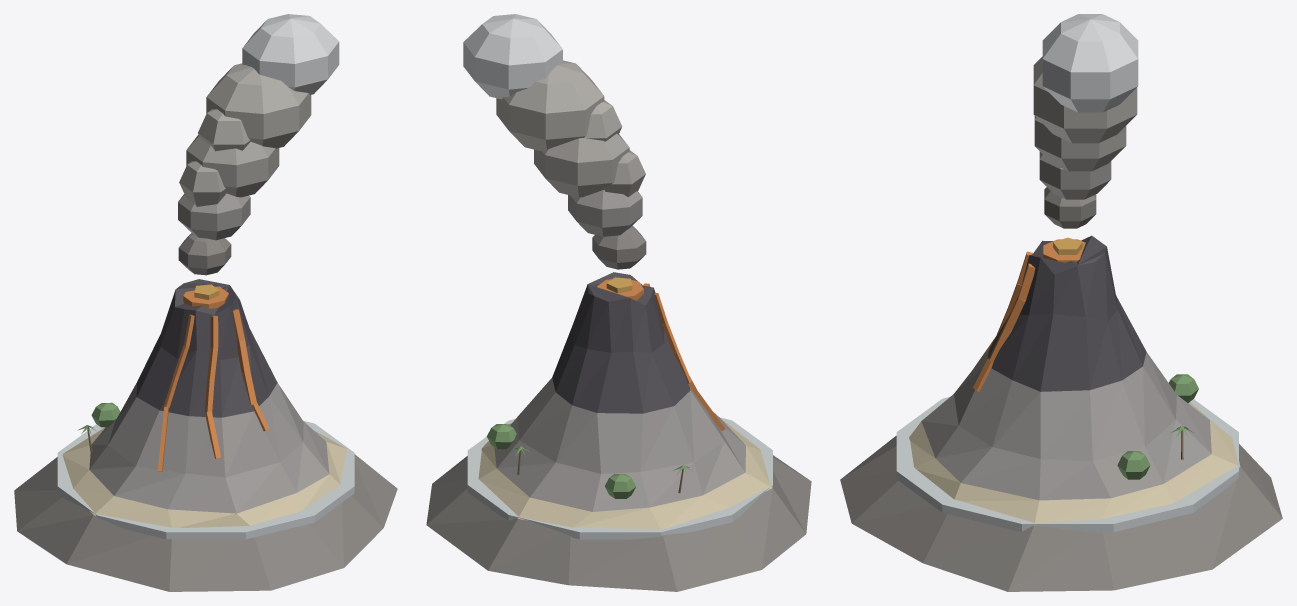
The model's file is krakatoa.glb.
3 views of the same model, side by side, from view 1: azimuth 30°, elevation 25°; view 2: azimuth 150°, elevation 25°; view 3: azimuth 270°, elevation 25° (orthographic). The views are drawn at different scales.
Parts seen in each view (by area): view 1: LOD0; view 2: LOD0; view 3: LOD0.
Boxes of the visible parts, <box> form: LOD0: <box>14,14,397,591</box>; LOD0: <box>426,14,811,591</box>; LOD0: <box>840,14,1282,591</box>.
Size of what is drawn, in the model's own units: 1.74 by 2.33 by 1.76.
